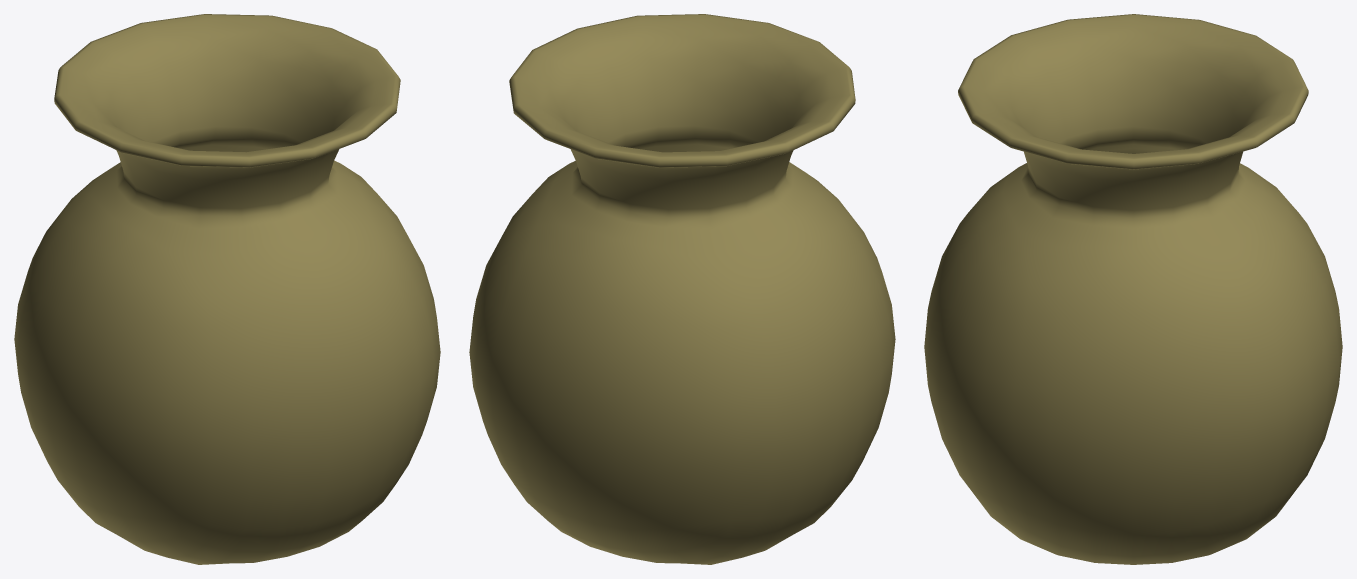
The model's file is sputacchiera_v01.fbx.
3 views of the same model, side by side, from view 1: azimuth 30°, elevation 25°; view 2: azimuth 150°, elevation 25°; view 3: azimuth 270°, elevation 25° (orthographic).
Visible parts, largest first — view 1: MSH_sputacchiera; view 2: MSH_sputacchiera; view 3: MSH_sputacchiera.
Boxes of the visible parts, x1,y1,x2,y2 form: MSH_sputacchiera: [14, 14, 440, 564]; MSH_sputacchiera: [469, 14, 895, 564]; MSH_sputacchiera: [924, 14, 1342, 564].
Bounding box in the file's own units: 1.8 × 2.12 × 1.8.
